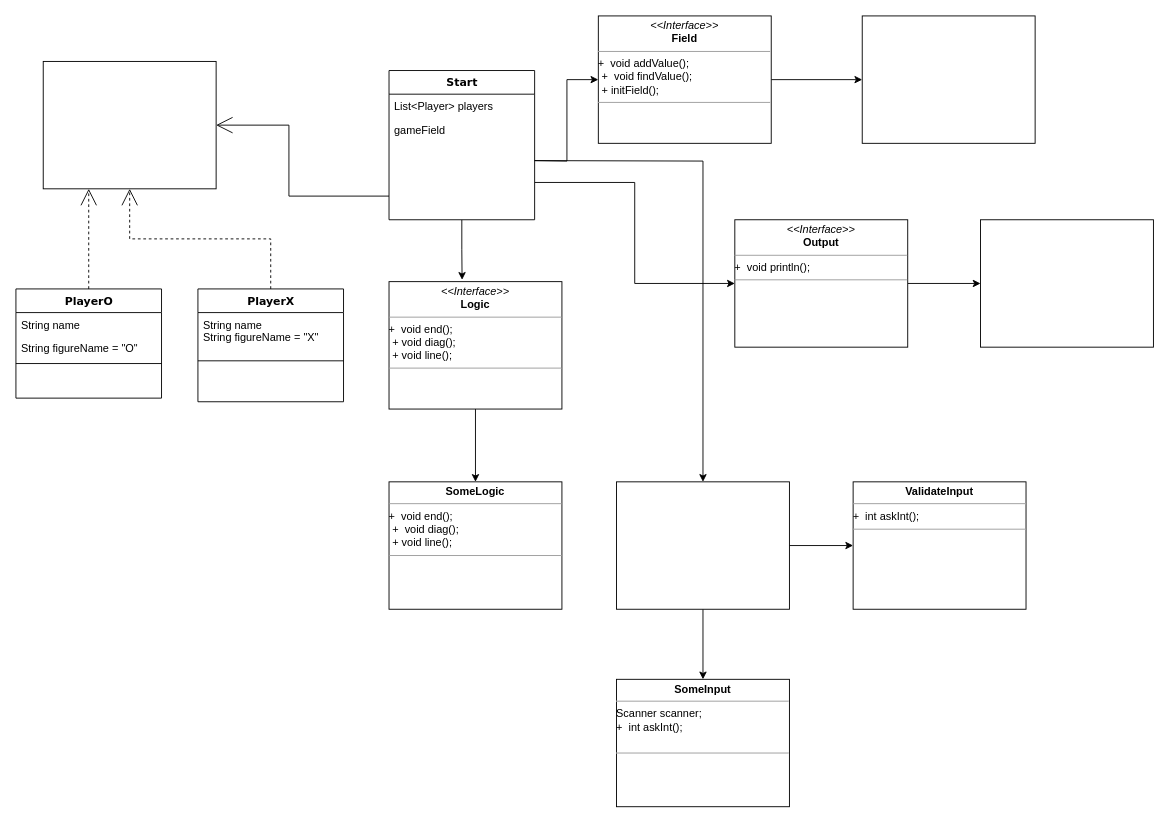
The diagram is 1169 pixels wide and 823 high, and some of its shapes have lost their labels. Each missing label, with the centre of its shape:
"<<Interface>> Input + int askInt();" goes at [702,545].
"<<Interface>> Player + String name + String figureName" goes at [129,125].
"FieldArray + void addValue(); + void findValue(); + initField();" goes at [948,79].
"SomeOutput + void println();" goes at [1066,283].
